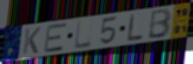5: (99, 16, 118, 45)
B: (147, 7, 173, 40)
E: (43, 22, 68, 54)
K: (21, 26, 43, 56)
L: (74, 19, 93, 51), (127, 12, 145, 43)
